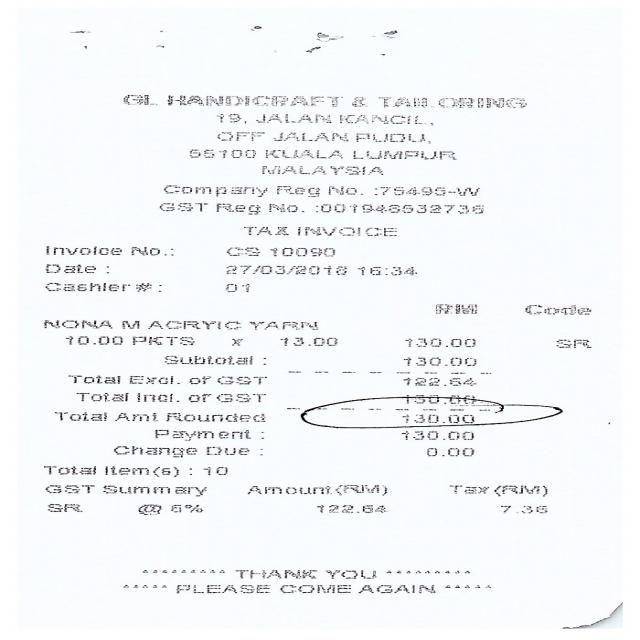text: (166, 95, 341, 106), (314, 204, 482, 214), (244, 484, 387, 494), (223, 264, 347, 275), (163, 184, 267, 197), (448, 484, 548, 496), (101, 485, 206, 496), (261, 165, 383, 174), (152, 429, 250, 440), (44, 282, 162, 291), (295, 226, 396, 236), (112, 444, 196, 456), (165, 412, 265, 422), (374, 187, 481, 196), (350, 150, 454, 159), (163, 354, 253, 364), (438, 98, 526, 108), (338, 114, 424, 124), (174, 584, 269, 593), (146, 320, 240, 329), (43, 246, 121, 256), (232, 569, 316, 578), (402, 356, 476, 366), (402, 376, 476, 386), (402, 394, 476, 404), (104, 466, 178, 476), (524, 304, 590, 315), (353, 132, 425, 142), (253, 113, 330, 122), (188, 148, 255, 158), (272, 132, 346, 141), (400, 431, 474, 440), (268, 247, 334, 257), (401, 413, 474, 422), (402, 338, 474, 347), (278, 584, 350, 593), (263, 149, 342, 157), (248, 321, 316, 330), (358, 584, 434, 592), (278, 336, 337, 346), (314, 504, 386, 512), (42, 320, 112, 328), (41, 465, 97, 475), (131, 336, 193, 345), (273, 185, 319, 197), (214, 202, 260, 214), (53, 411, 107, 421), (44, 263, 97, 273), (67, 374, 120, 384), (357, 266, 415, 275), (75, 392, 127, 402), (377, 96, 427, 106), (63, 336, 123, 344), (215, 131, 262, 141), (241, 225, 287, 235), (423, 447, 474, 456), (43, 484, 92, 493), (216, 393, 264, 402), (434, 304, 476, 314), (324, 570, 376, 578), (112, 412, 158, 421), (215, 376, 266, 384), (128, 246, 173, 255), (158, 203, 208, 211), (122, 94, 157, 105), (127, 375, 174, 383), (553, 338, 590, 348), (135, 392, 172, 402), (204, 446, 248, 454), (498, 505, 546, 512), (224, 247, 260, 256), (47, 503, 81, 511), (169, 504, 203, 512), (326, 186, 356, 194), (135, 504, 159, 514), (202, 466, 228, 475), (267, 204, 296, 212), (216, 113, 240, 122), (225, 283, 249, 292), (188, 393, 210, 402), (349, 96, 365, 106), (120, 320, 140, 328), (188, 376, 210, 383), (230, 337, 242, 345)
